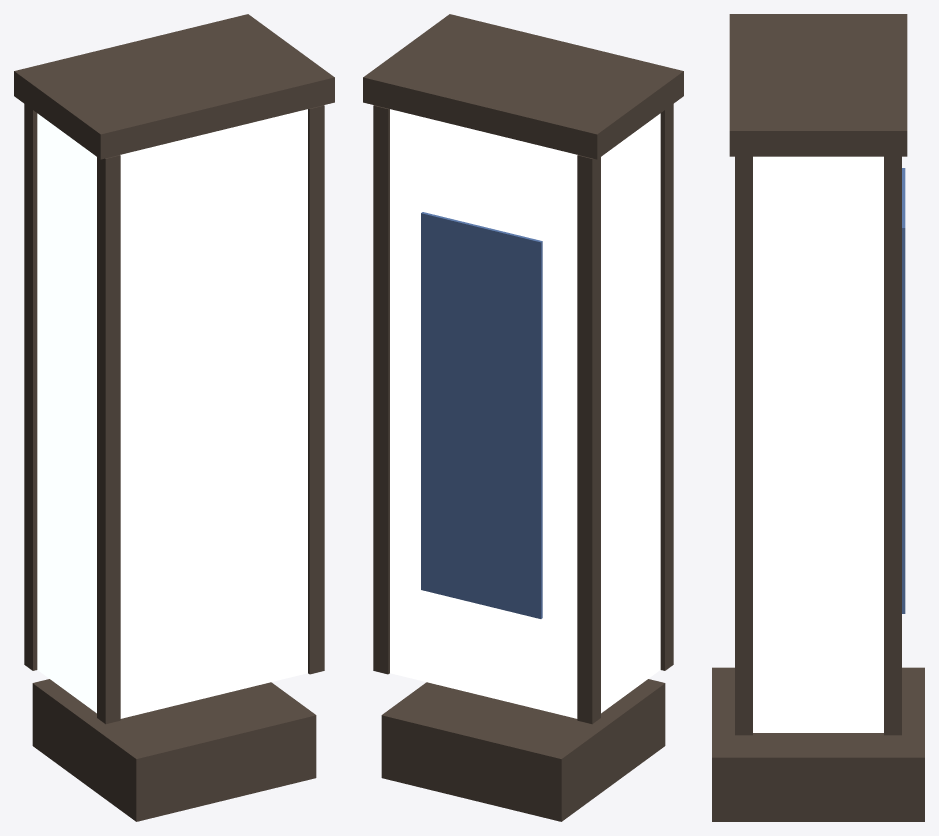
Rendered from prop_andon_sign_b.glb.
The picture shows the model from 3 angles, left to right: view 1: azimuth 30°, elevation 25°; view 2: azimuth 150°, elevation 25°; view 3: azimuth 270°, elevation 25°; orthographic projection. The views are drawn at different scales.
Visible parts, largest first — view 1: andon_sign_b; view 2: andon_sign_b; view 3: andon_sign_b.
Part boxes in pixels (box(x1,y1,x2,y2)): andon_sign_b: box(14, 14, 334, 821); andon_sign_b: box(363, 14, 683, 821); andon_sign_b: box(712, 14, 924, 821).
Bounding box in the file's own units: 0.78 × 2.19 × 0.6.
